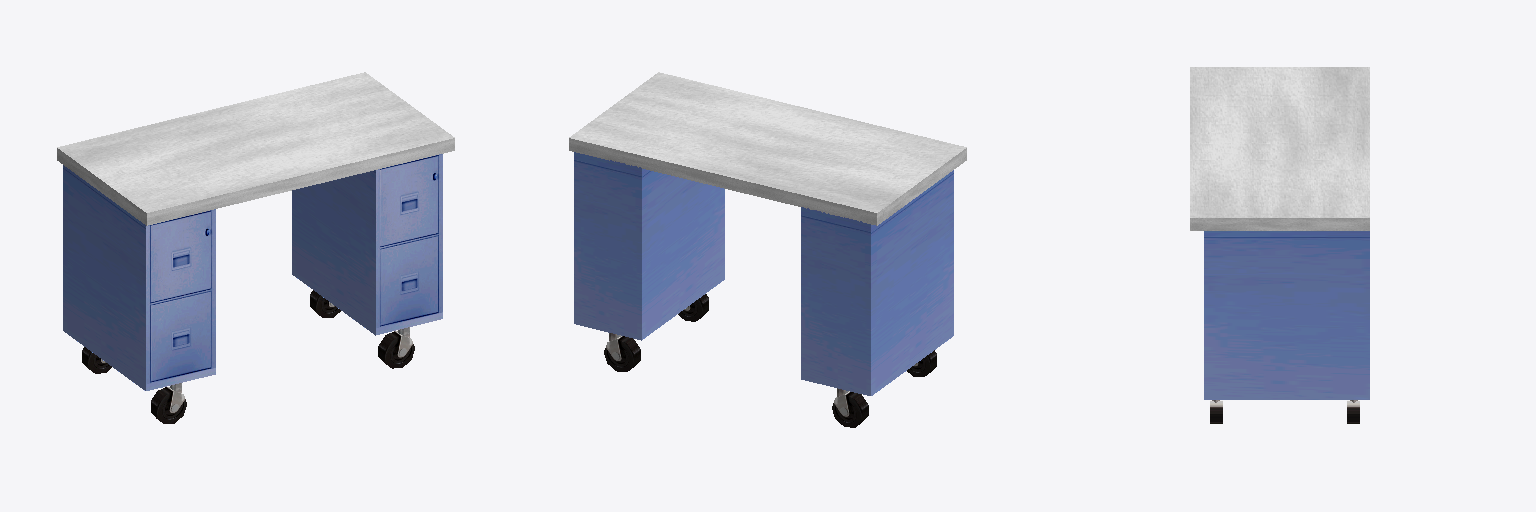
The picture shows the model from 3 angles: view 1: azimuth 30°, elevation 25°; view 2: azimuth 150°, elevation 25°; view 3: azimuth 270°, elevation 25°; orthographic projection.
Visible parts, largest first — view 1: object7, object6, object5, object13, object11; view 2: object7, object6, object5, object1, object3; view 3: object7, object5.
Boxes of the visible parts, box(x1,y1,x2,y2) form: object7: box(57, 72, 454, 225); object6: box(63, 165, 215, 390); object5: box(292, 154, 442, 335); object13: box(378, 331, 414, 368); object11: box(151, 387, 186, 423); object7: box(569, 72, 966, 225); object6: box(801, 170, 953, 395); object5: box(574, 152, 724, 340); object1: box(604, 336, 640, 371); object3: box(832, 391, 868, 427); object7: box(1190, 67, 1369, 230); object5: box(1204, 231, 1369, 399).
Size of the model in its own units: 54.6 by 38.32 by 27.55.
13 materials, 1 textured.